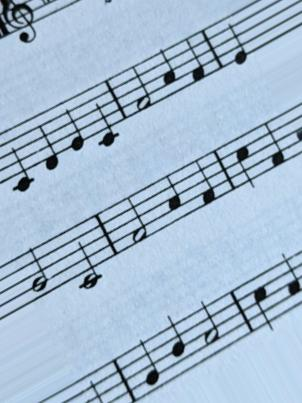A: (275, 251, 301, 313), (159, 175, 188, 220), (154, 43, 178, 96)
B: (161, 315, 189, 378)
D: (34, 113, 63, 174)
E: (60, 98, 90, 155), (219, 18, 251, 69)
F: (260, 117, 291, 174), (191, 157, 219, 211), (182, 35, 208, 85)
G: (128, 339, 163, 395)
HC: (248, 273, 280, 338), (233, 136, 263, 192)
LC: (1, 130, 36, 196), (92, 83, 123, 150)
